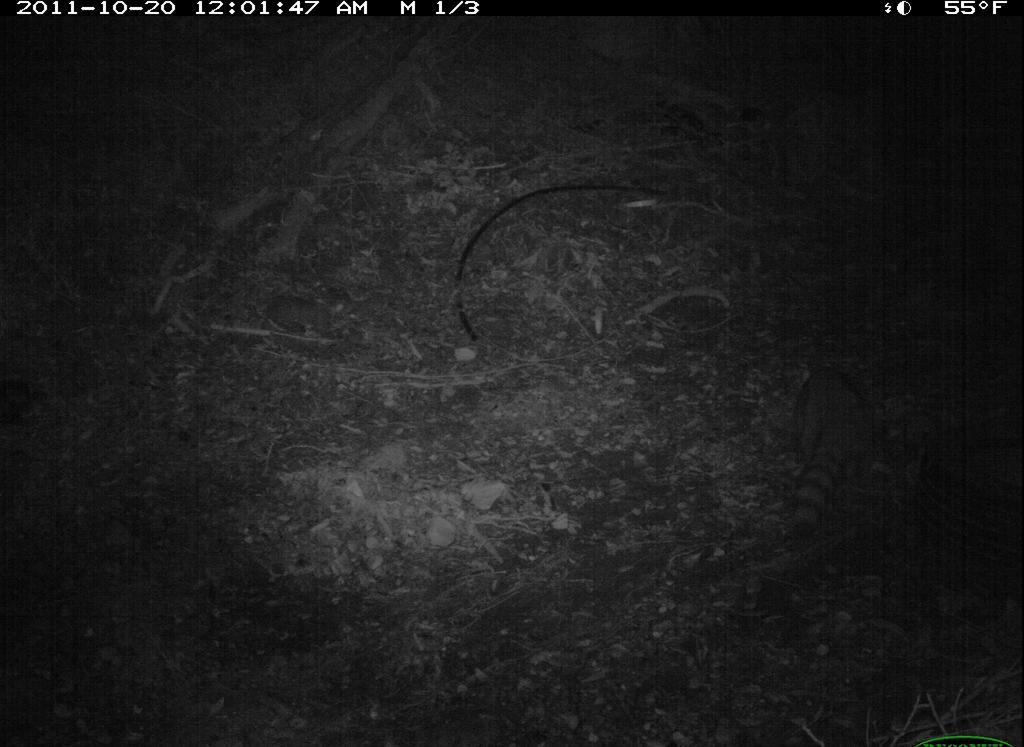raccoon: (776, 359, 876, 550)
